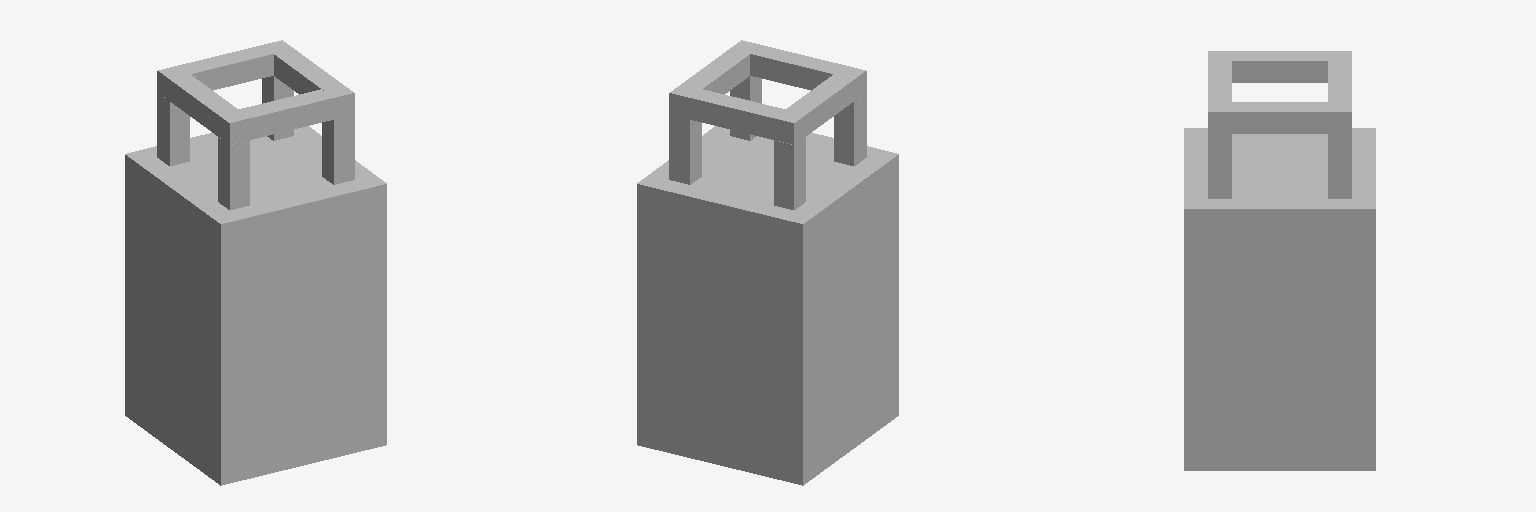
File: air_balloons_gastank.obj
3 views of the same model, side by side, from view 1: azimuth 30°, elevation 25°; view 2: azimuth 150°, elevation 25°; view 3: azimuth 270°, elevation 25° (orthographic).
Parts seen in each view (by area): view 1: nodebox6; view 2: nodebox6; view 3: nodebox6.
Part boxes in pixels (bbox=[...]): nodebox6: bbox=[125, 40, 386, 485]; nodebox6: bbox=[637, 40, 898, 485]; nodebox6: bbox=[1184, 51, 1375, 470].
Size of the model in its own units: 0.5 by 1 by 0.5.